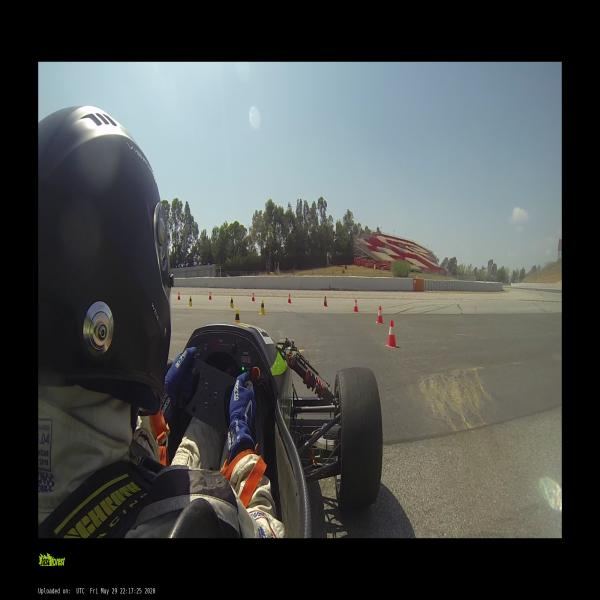orange_cone: (385, 320, 398, 348), (376, 306, 384, 324), (322, 296, 328, 308), (353, 299, 358, 313), (251, 292, 256, 302), (288, 293, 292, 304), (208, 292, 212, 300), (177, 292, 181, 300)
yellow_cone: (259, 300, 265, 314), (235, 309, 240, 322), (229, 296, 234, 308), (188, 296, 193, 306)
